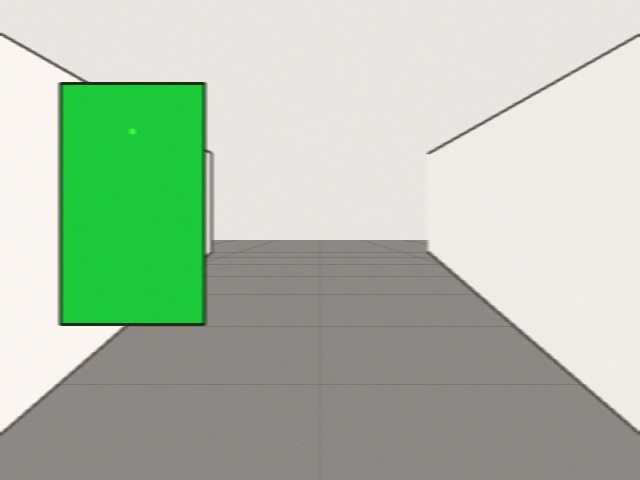charging_station: (60, 83, 204, 324)
